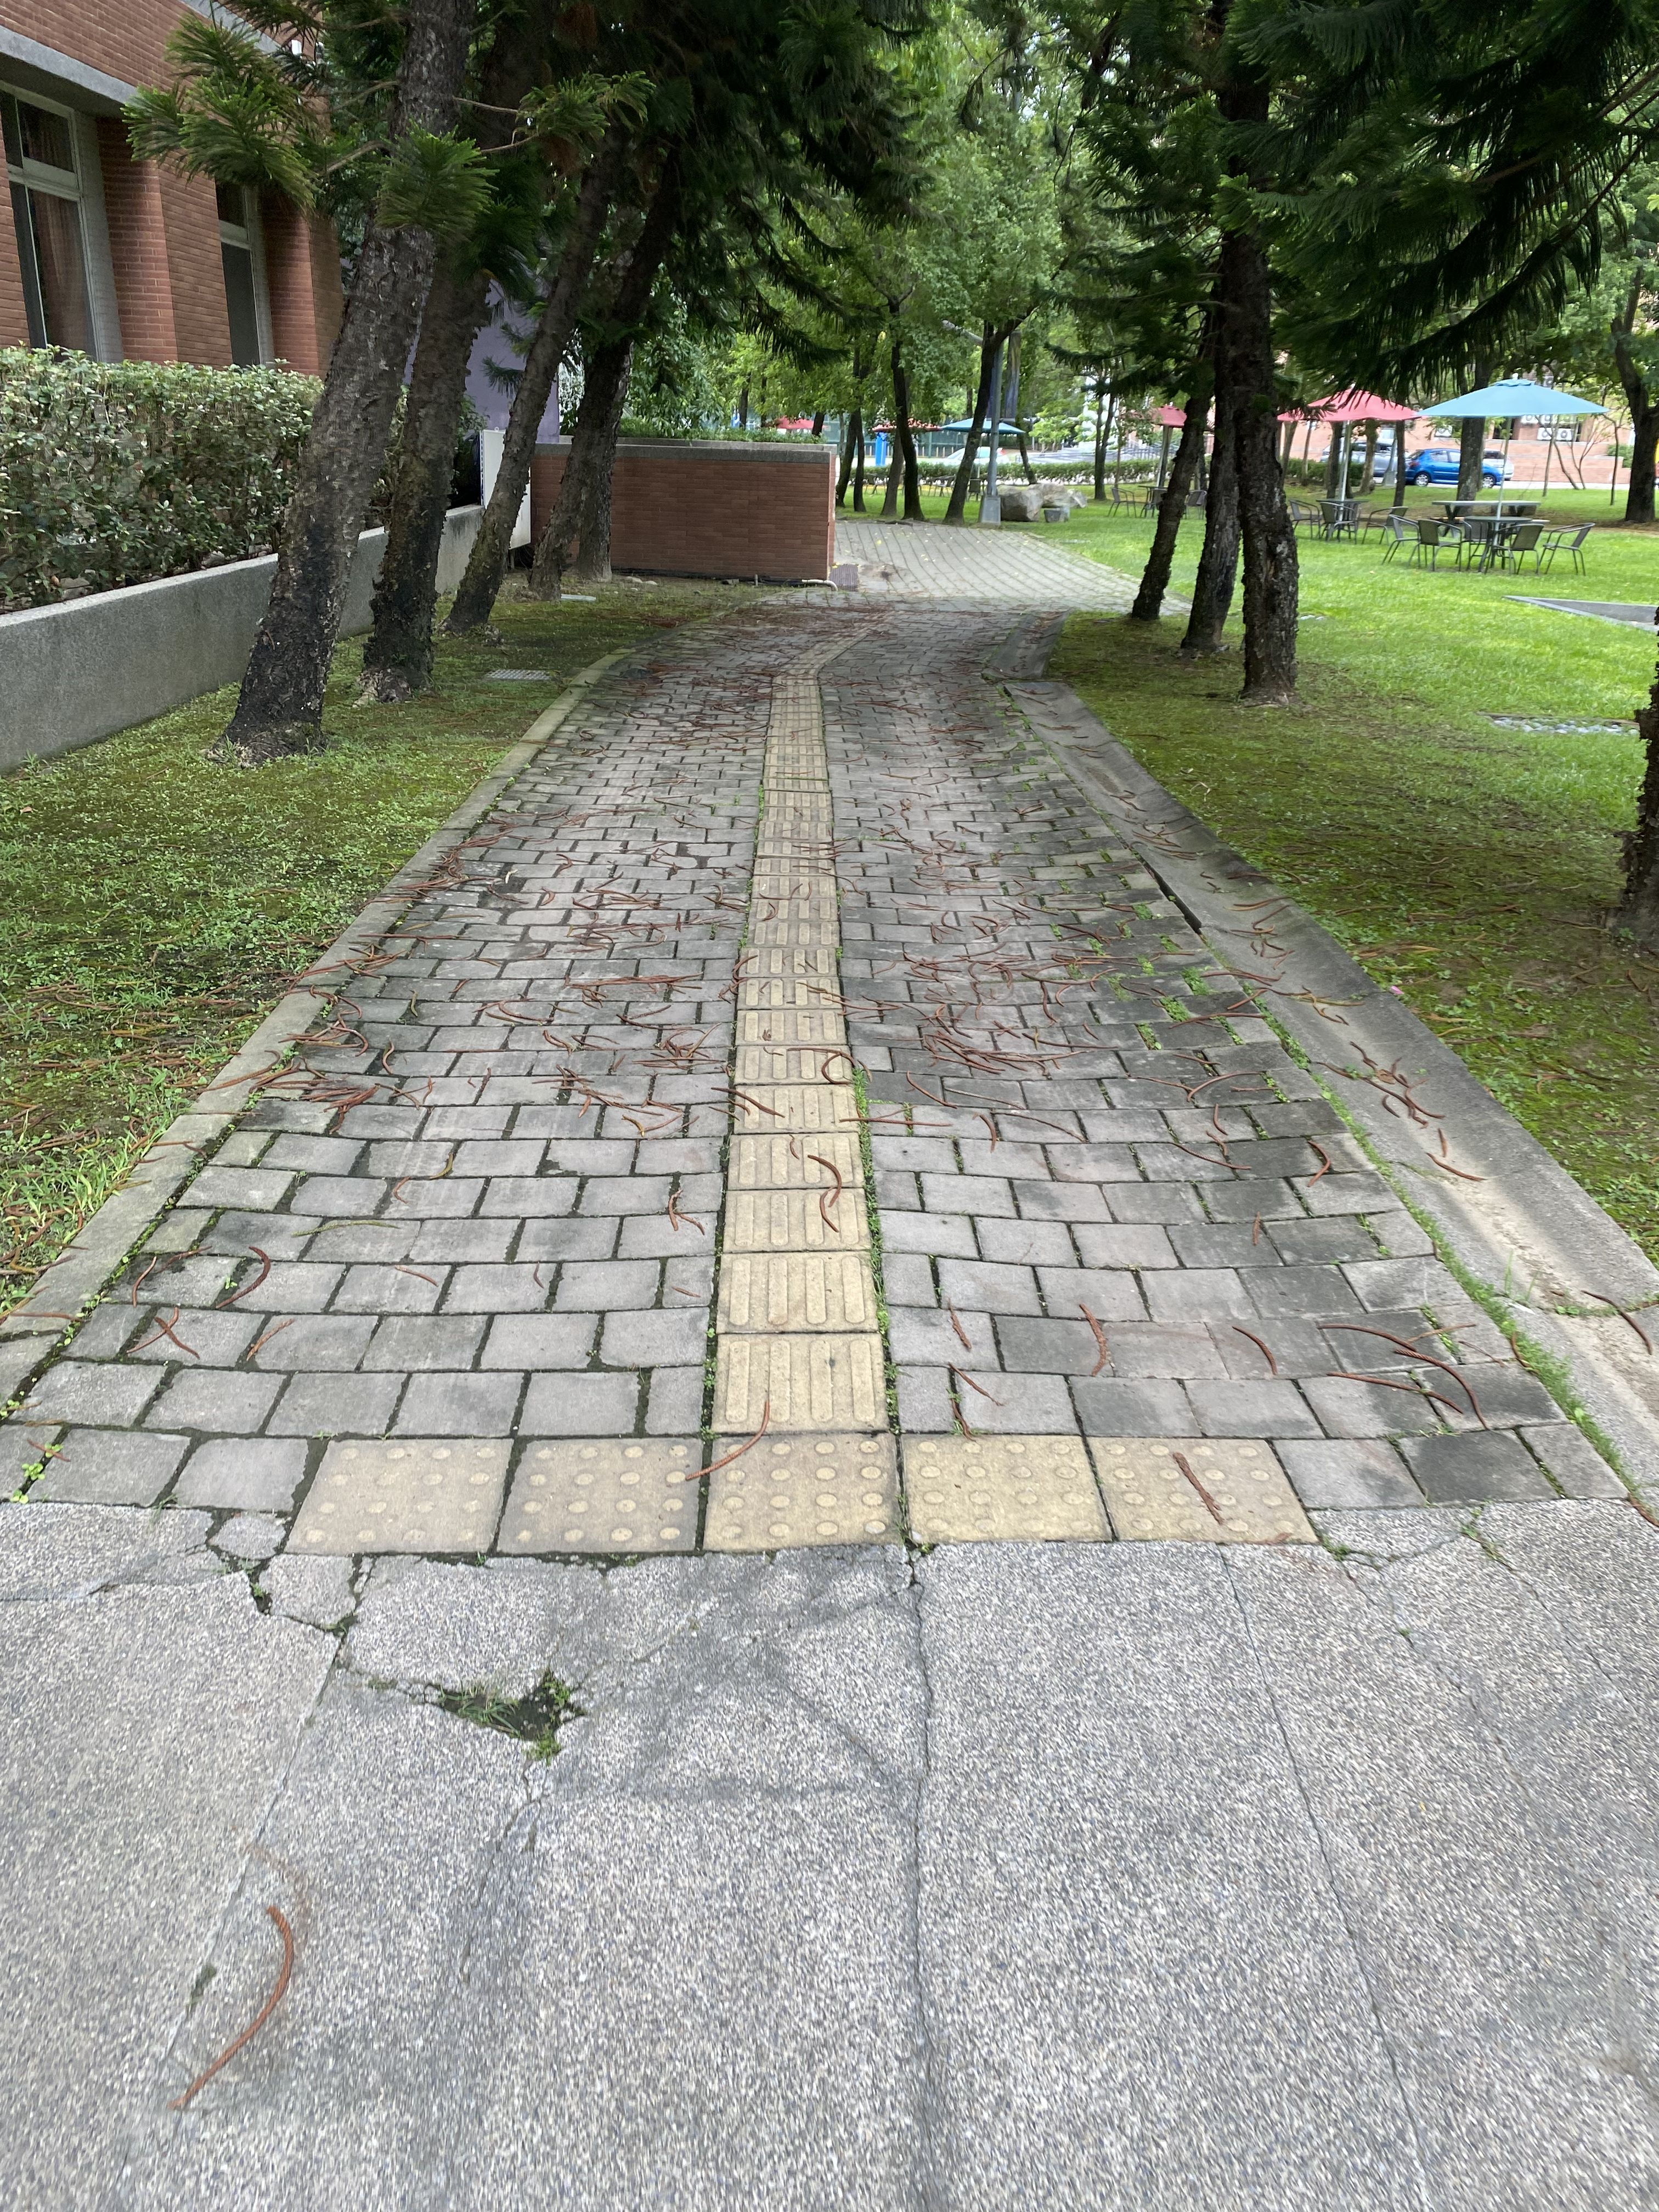sidewalk: (0, 435, 1659, 2205)
